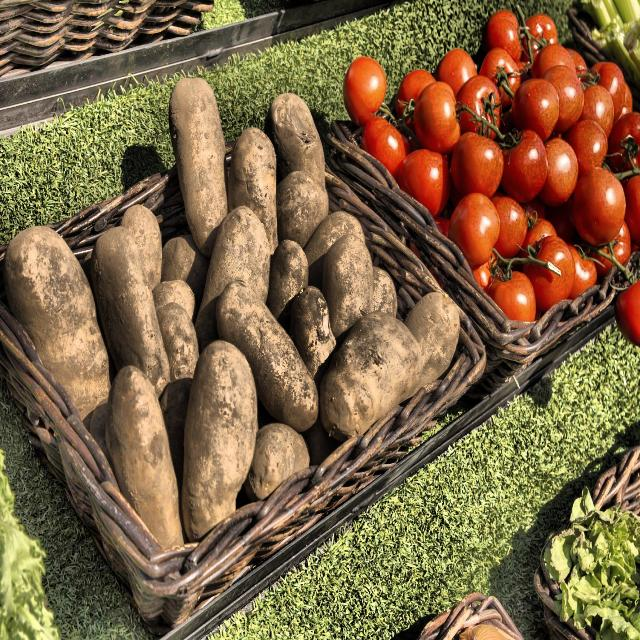potato: (9, 61, 332, 566)
tomato: (338, 4, 634, 396)
